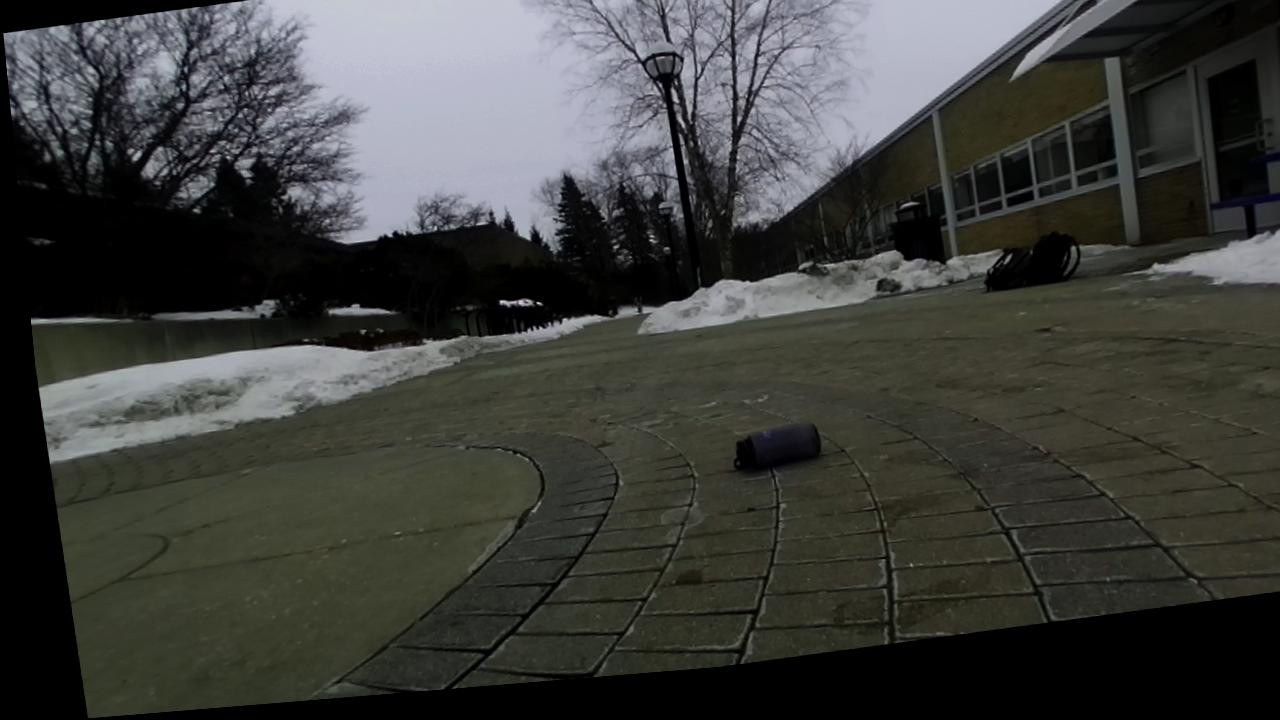bottle: (733, 423, 821, 469)
